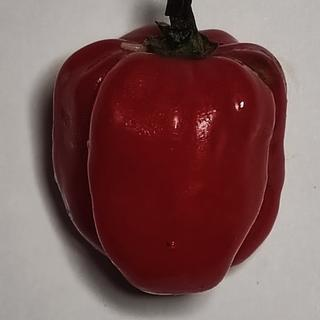Grade-A: (46, 16, 293, 298)
